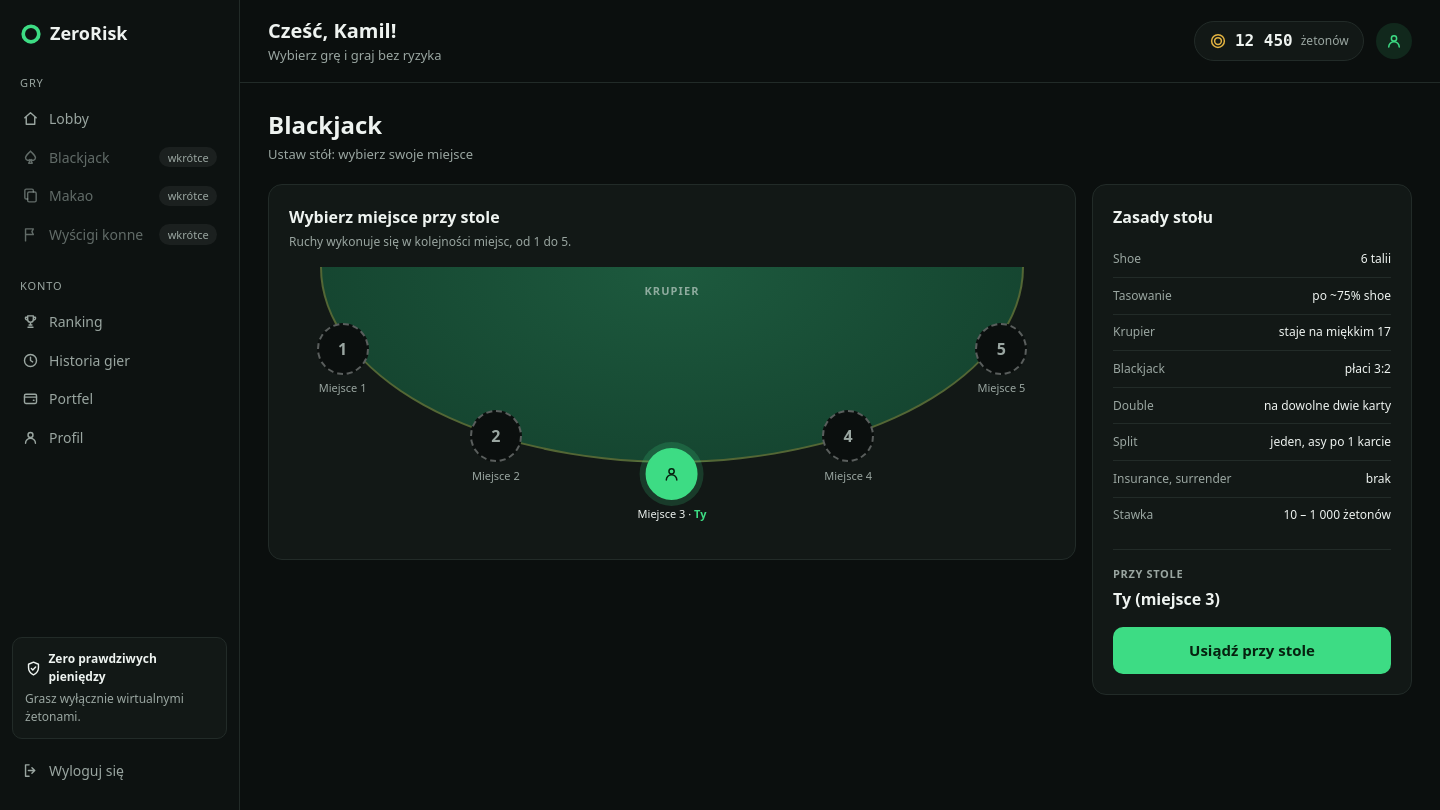
Test: BlackjackSetupPage › opens a table at the chosen seat and shows it
Check: the element "Wybierz miejsce przy stole" is shown, box top-left (289, 205), bottom-right (1055, 539)
What coordinates should you click on to do the following:
click the radio button labelled "5 Miejsce 5"
I would click on:
 (1001, 360)
Its box is top-left (975, 323), bottom-right (1027, 397).
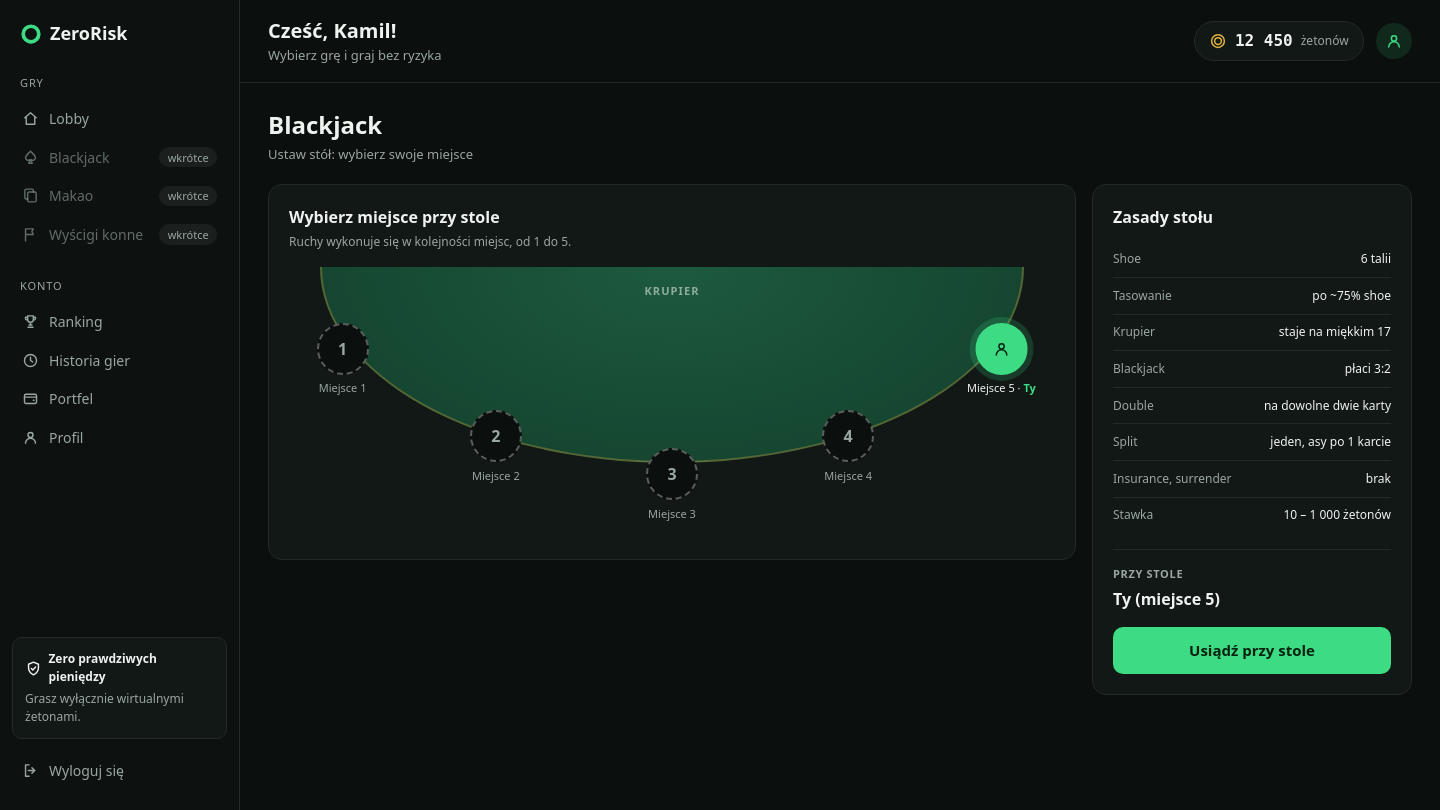
Check: the text "Ty (miejsce 5)" is shown, box top-left (1113, 588), bottom-right (1220, 610)
What coordinates should you click on to do the following:
click the button "Usiądź przy stole"
I would click on:
 (1252, 650)
Its box is top-left (1113, 627), bottom-right (1391, 674).
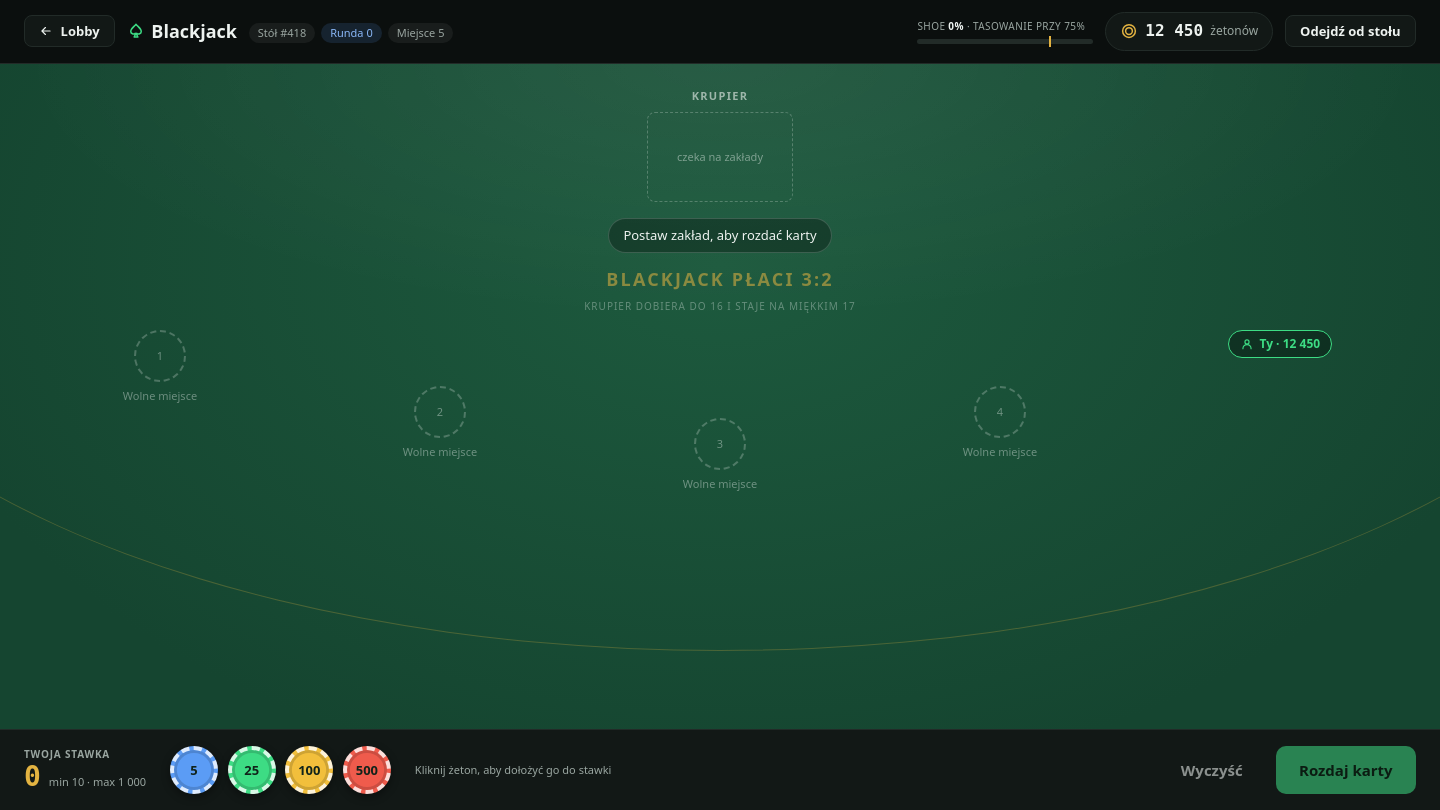
Check: the text "Miejsce 5" is shown, box top-left (388, 23), bottom-right (453, 43)
